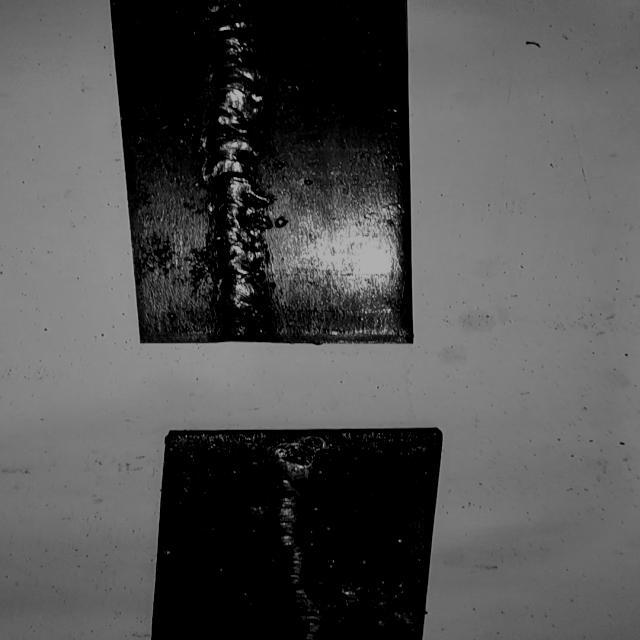Defect: (260, 576, 421, 631), (254, 432, 350, 474)
Welding Line: (206, 6, 273, 338), (265, 437, 326, 640)
Workpiece: (104, 0, 424, 348), (141, 424, 454, 640)
